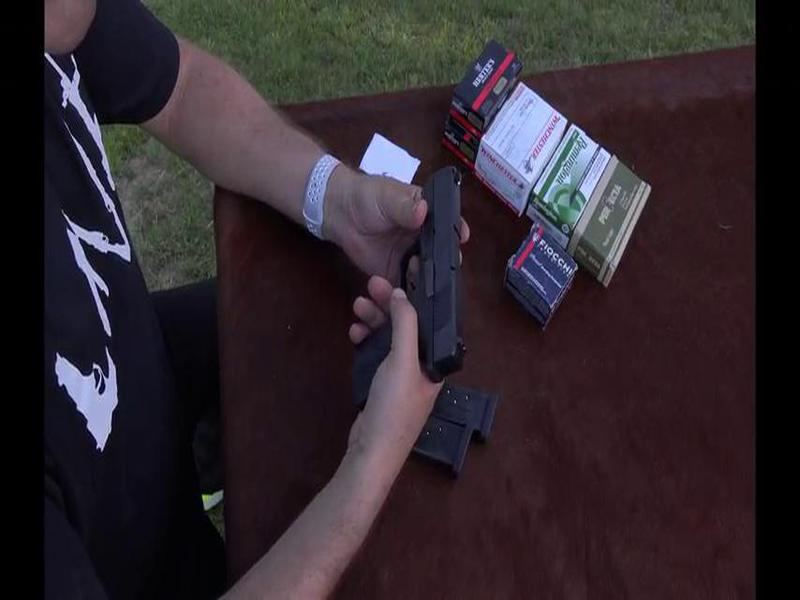Pistola: (332, 156, 483, 421)
